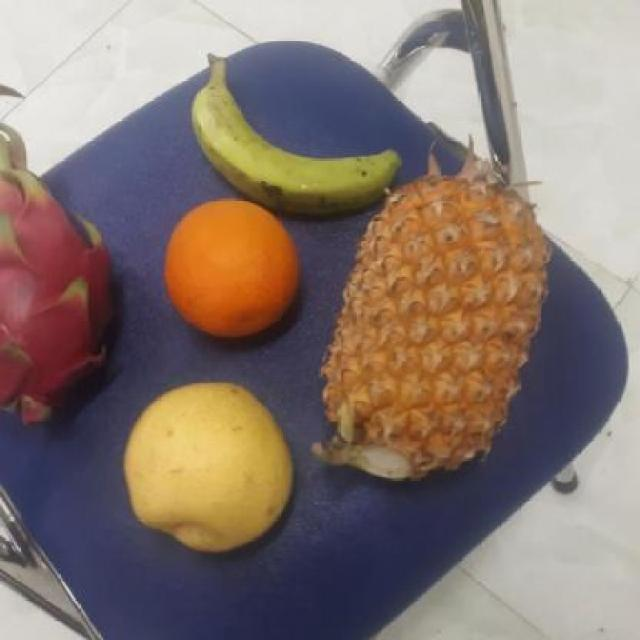banana: (194, 55, 398, 212)
dragon fruit: (0, 172, 131, 432)
oren: (162, 201, 307, 341)
pear: (131, 384, 311, 551)
pineapple: (320, 177, 555, 486)
